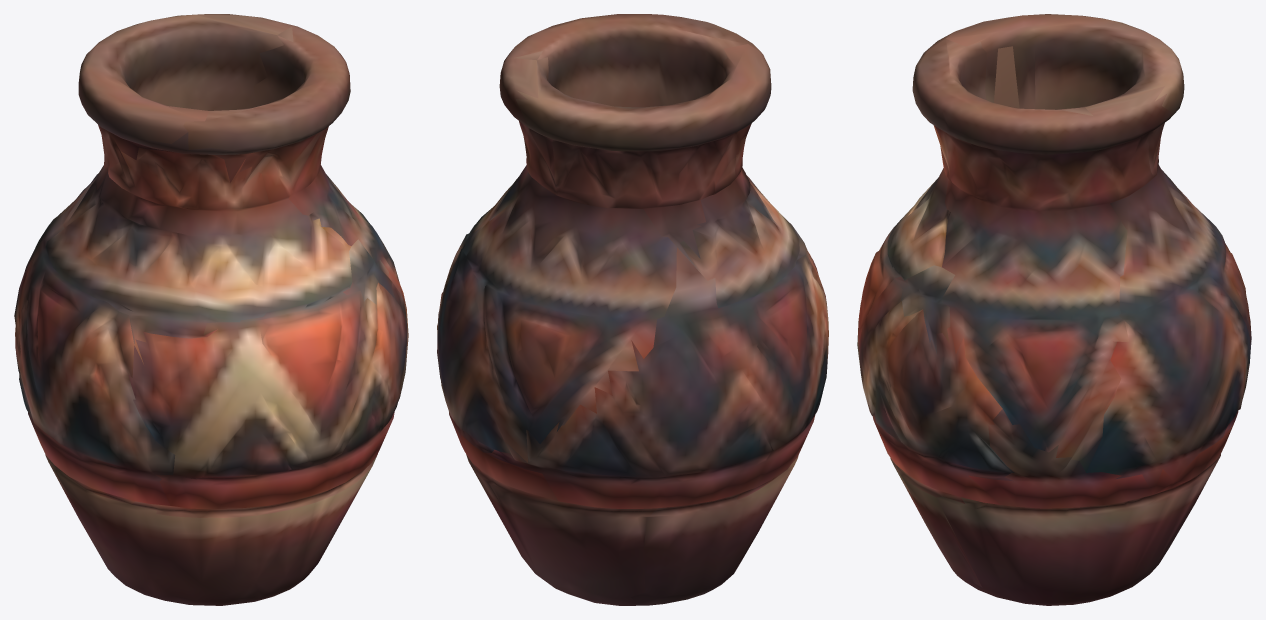
Rendered from c09_vaso_marajoara.glb.
3 renders of one model, left to right at view 1: azimuth 30°, elevation 25°; view 2: azimuth 150°, elevation 25°; view 3: azimuth 270°, elevation 25°, orthographic.
Parts seen in each view (by area): view 1: c09_vaso_marajoara; view 2: c09_vaso_marajoara; view 3: c09_vaso_marajoara.
Boxes of the visible parts, bbox=[...] form: c09_vaso_marajoara: bbox=[14, 14, 408, 605]; c09_vaso_marajoara: bbox=[437, 14, 828, 605]; c09_vaso_marajoara: bbox=[857, 14, 1251, 605].
Size of the model in its own units: 1.32 by 1.86 by 1.33.
1 material, 1 textured.
